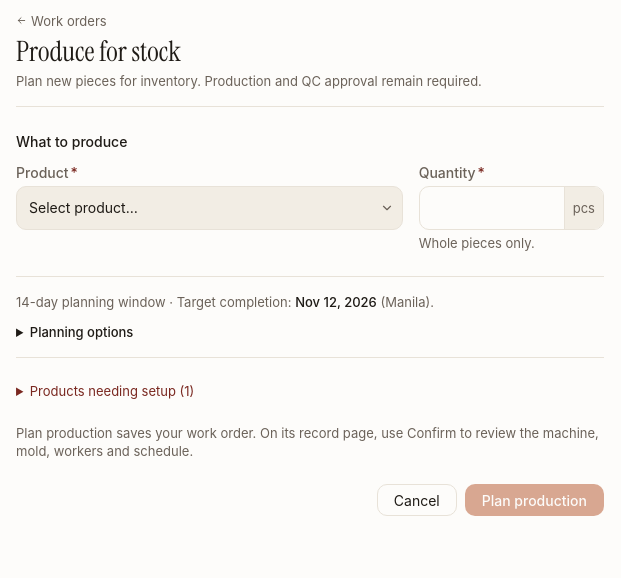
disables products with setup blockers and explains unavailable options
Expected: the heading "Products needing setup (1)" is shown, [30,383,194,399]
Select "PC-002 · Cover · Publish QC specification." in the dropdown labelled "Product*" at (209, 208), box [17,186,402,228]
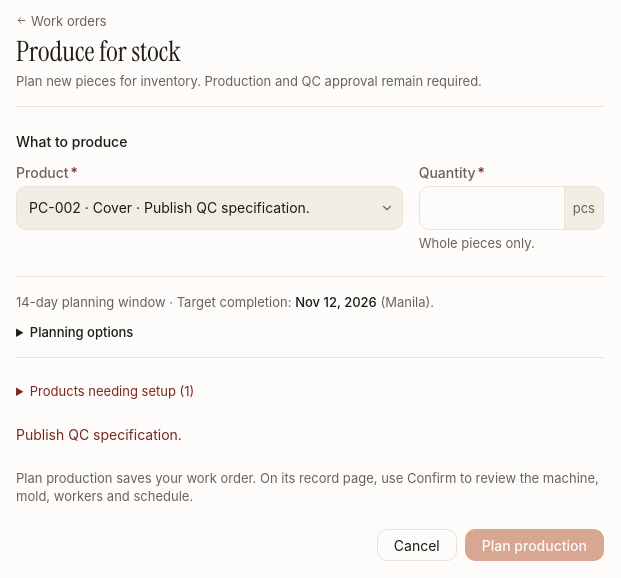
Expected: the button "Plan production" is disabled, [465,529,604,561]
Expected: the message reads "Publish QC specification.", [16,426,182,443]
